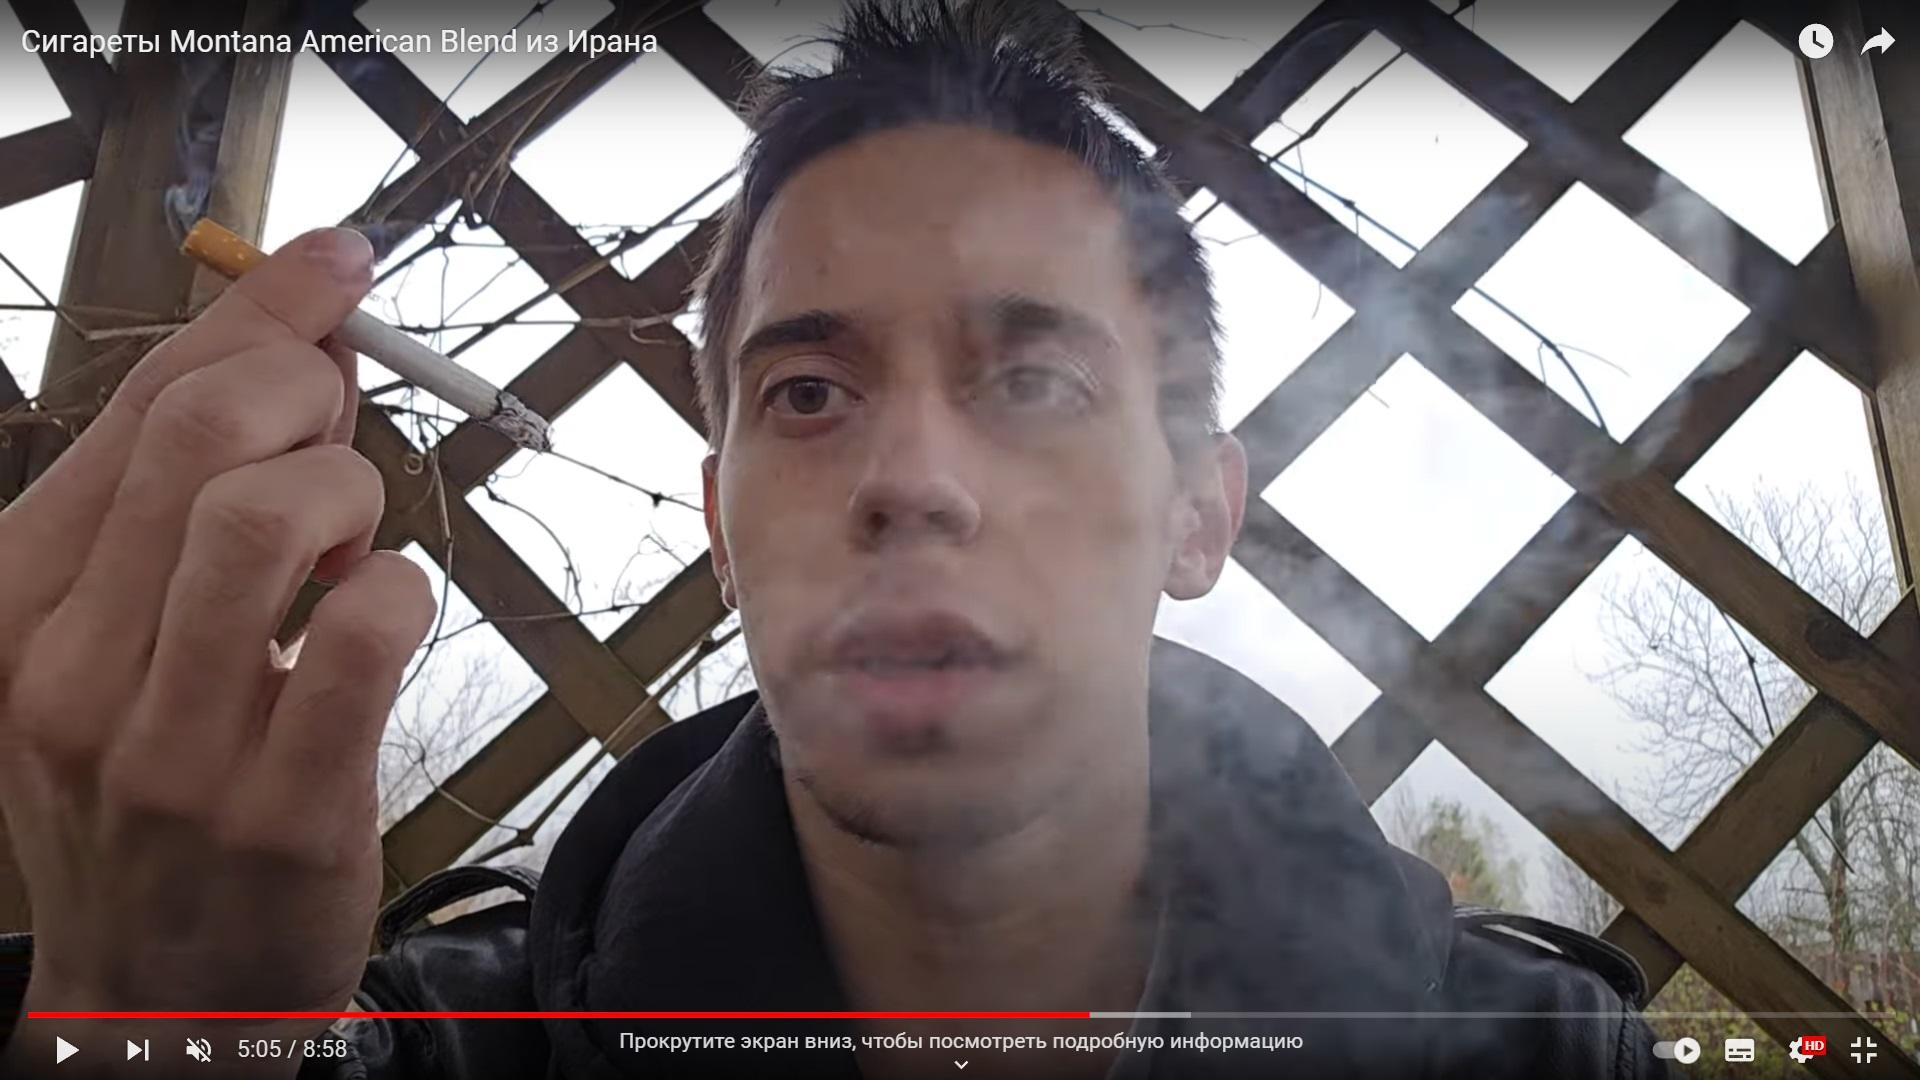cigarette: (178, 216, 553, 454)
